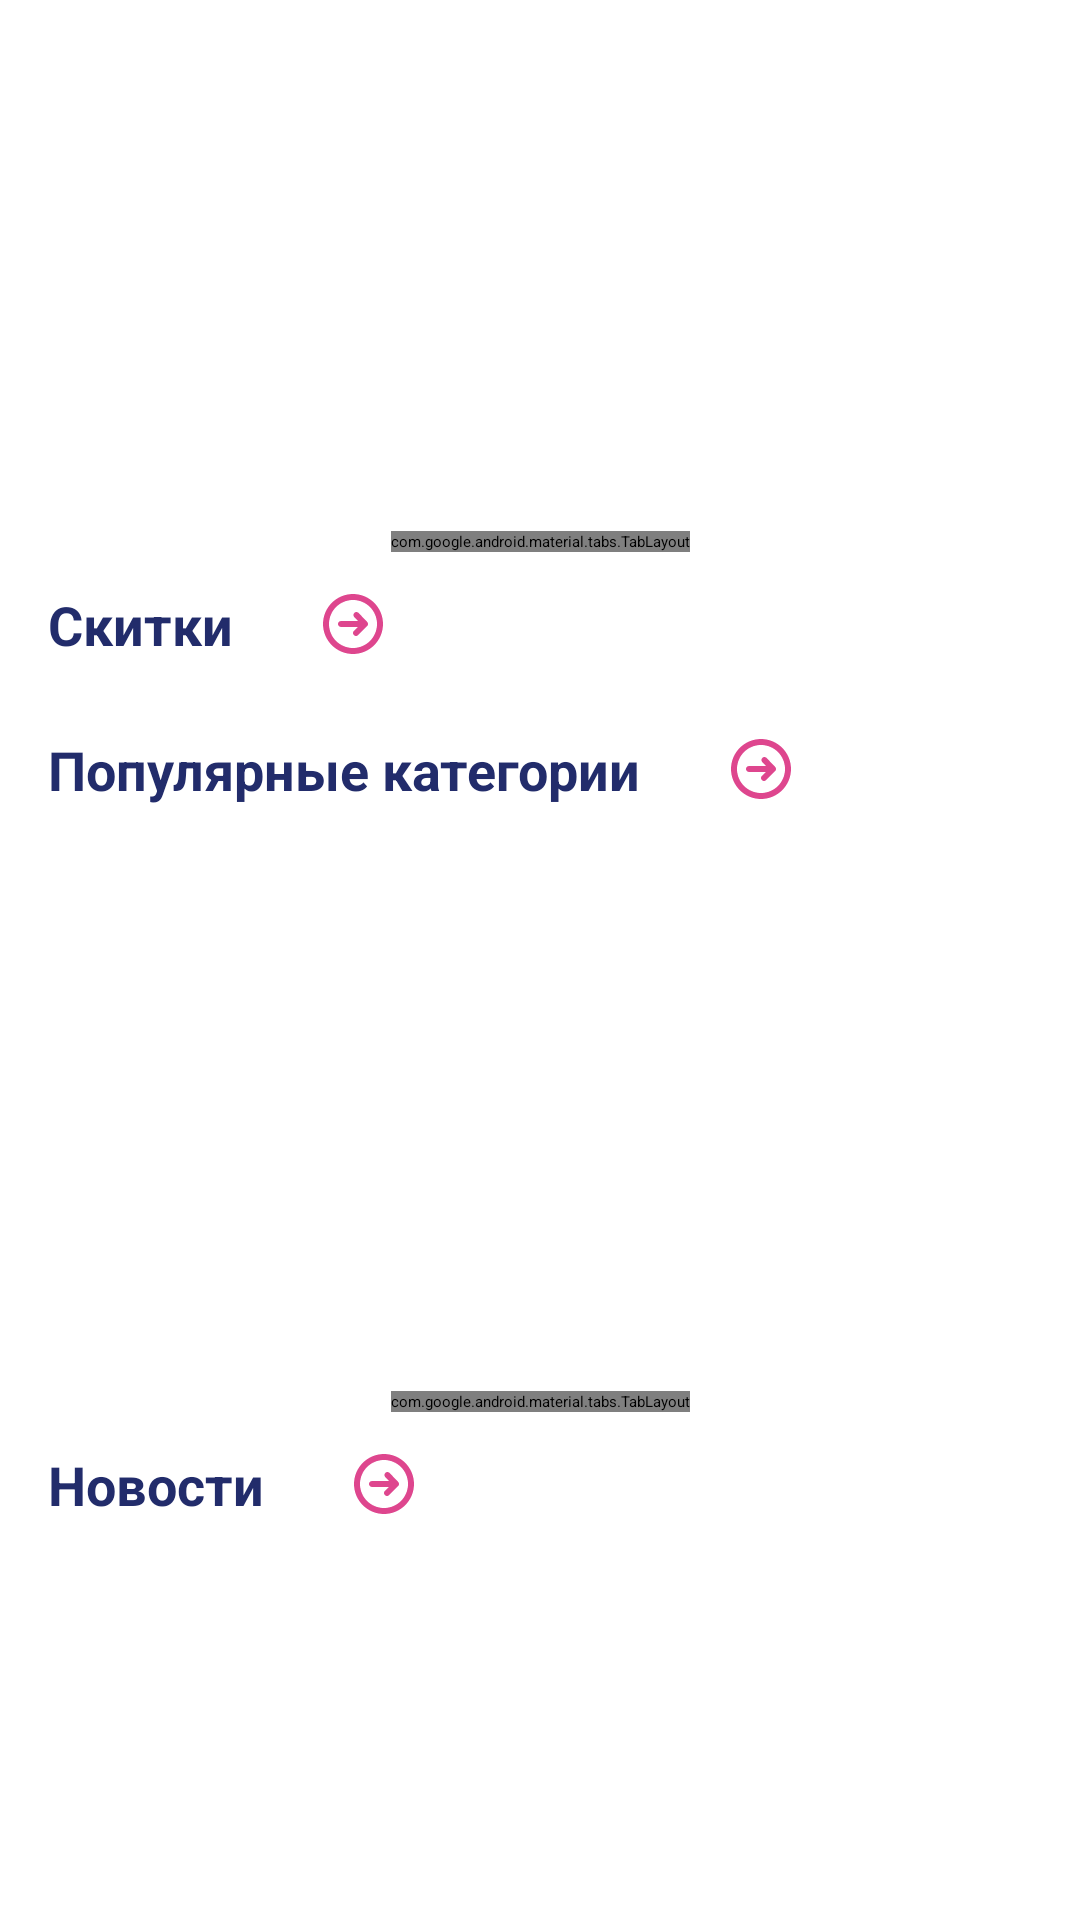

Named icons in this screenshot (1080x1920) and their bounding boxes, (x1, y1, x2, y2):
arrow: (323, 594, 383, 654), (731, 739, 791, 799), (354, 1454, 414, 1514)
